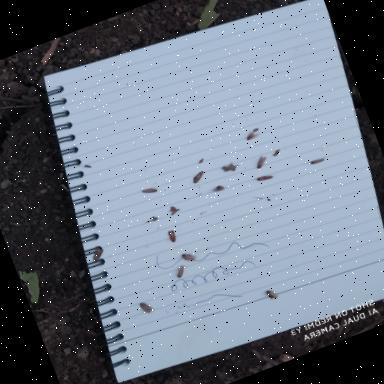pbw: (134, 296, 157, 318), (86, 244, 110, 264), (259, 285, 283, 304), (188, 166, 210, 186), (170, 261, 192, 281), (137, 182, 161, 200), (307, 150, 328, 170), (254, 168, 276, 186), (162, 226, 180, 246), (252, 152, 270, 170), (178, 248, 198, 264)
